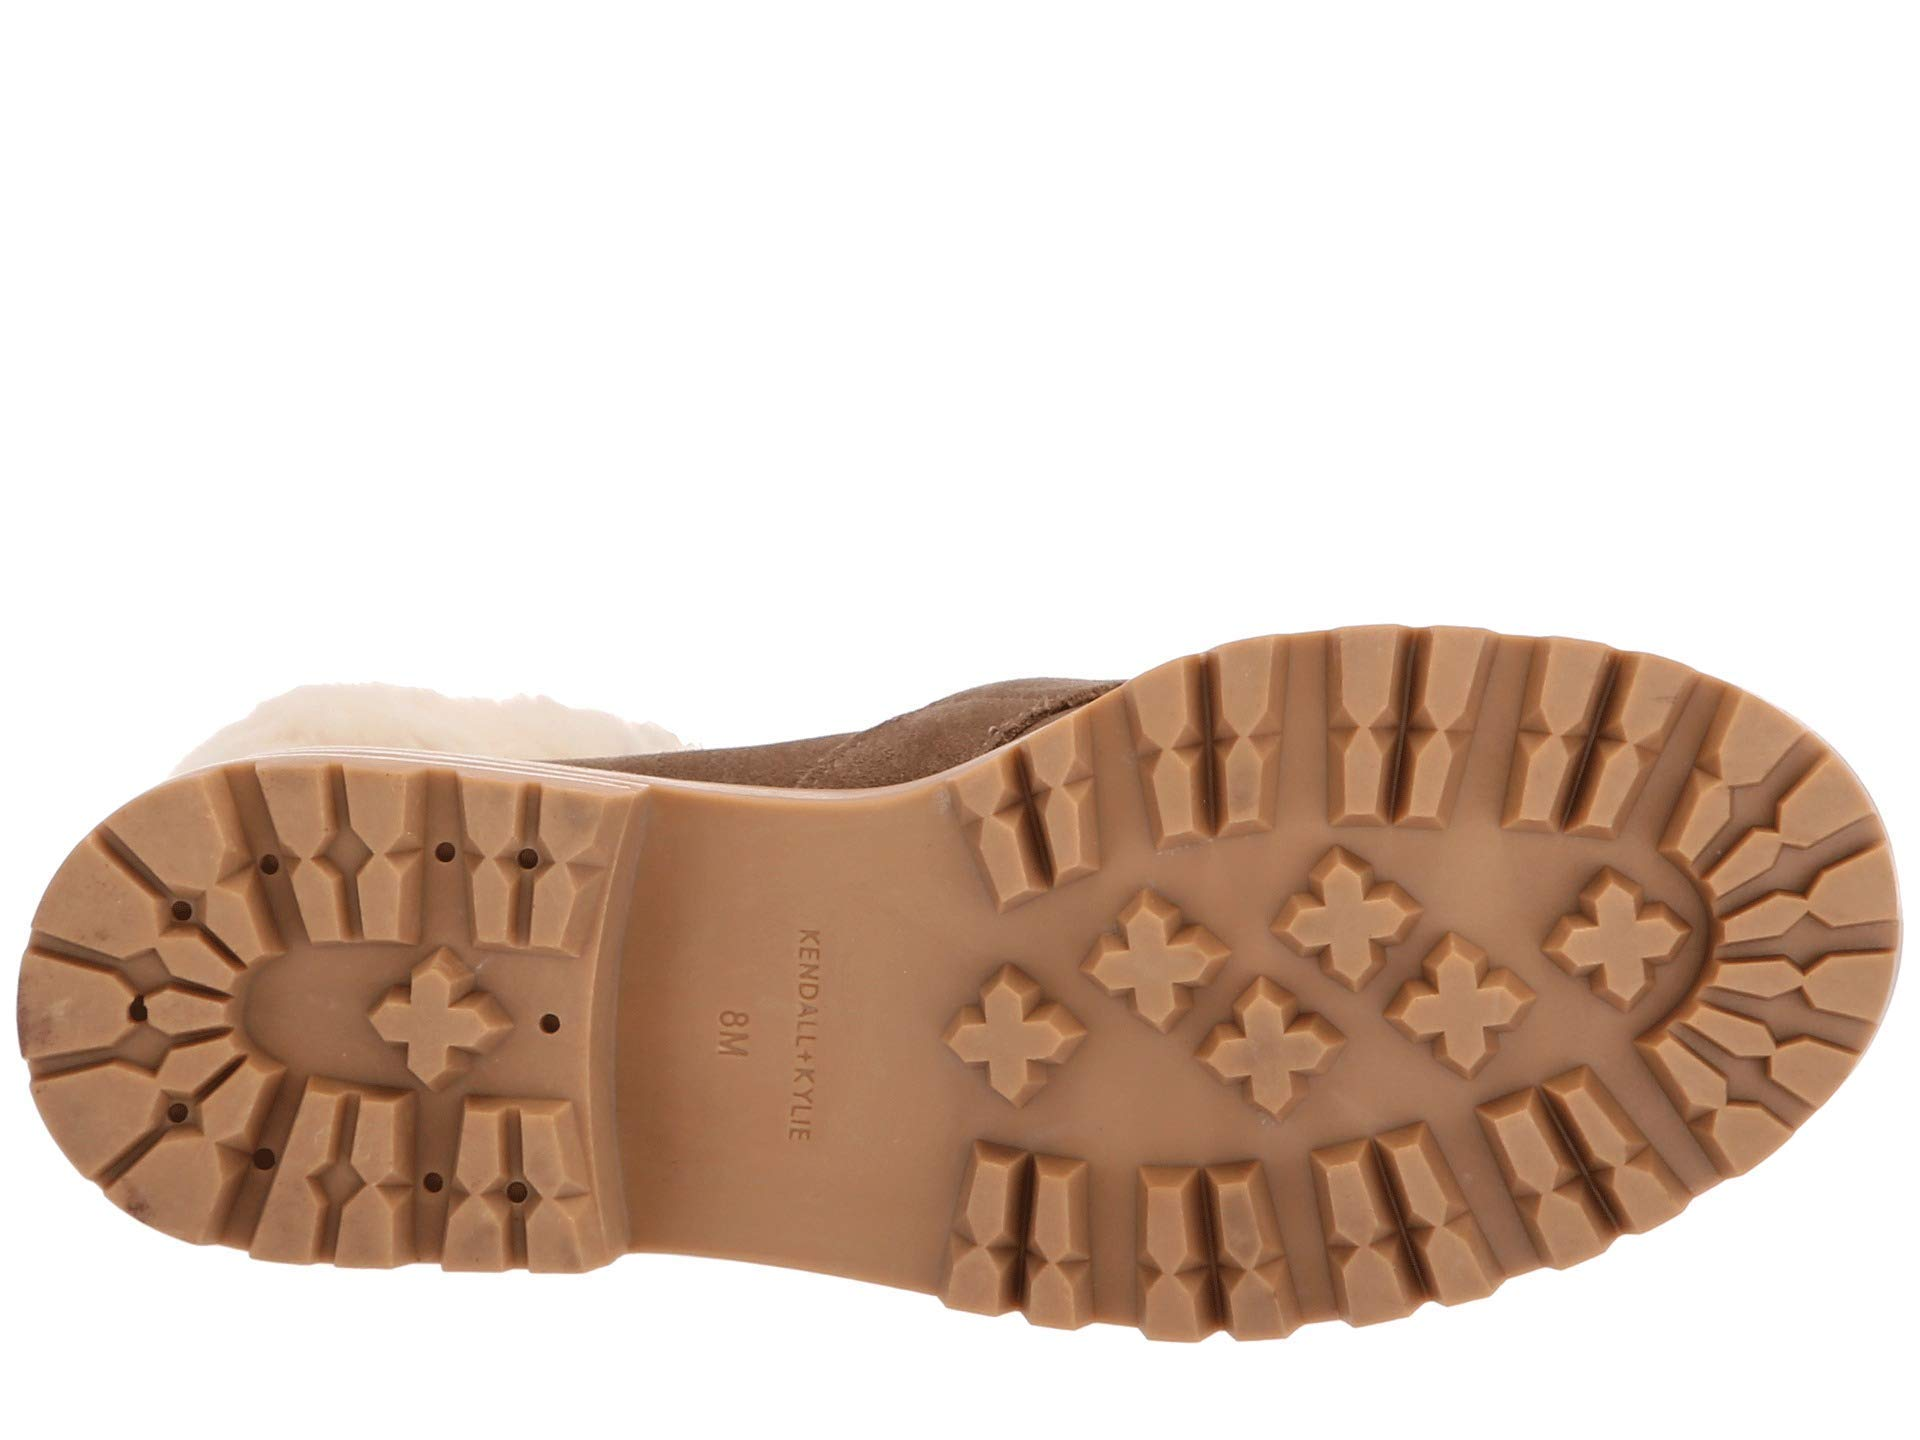bowtie: (904, 902, 1297, 1384), (1102, 605, 1324, 867)
circle: (316, 895, 576, 1175)
star: (904, 902, 1297, 1384), (316, 895, 576, 1175), (1480, 861, 1707, 1080)
